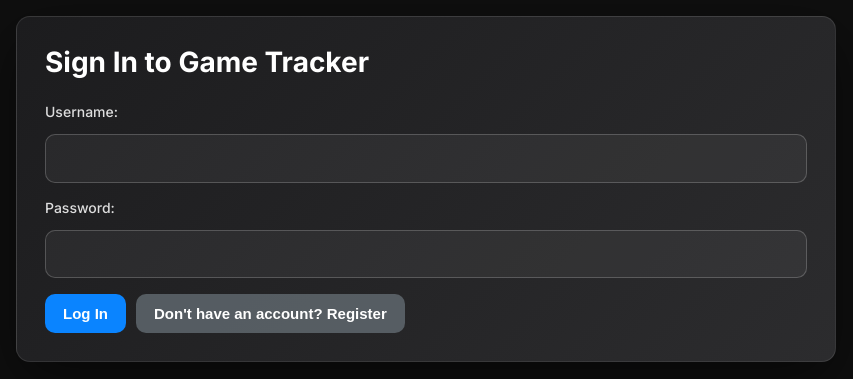
Test: App Component - Authentication › toggles between login and register forms
Click the button "Don't have an account? Register" at (270, 314), box [136,294,405,333]
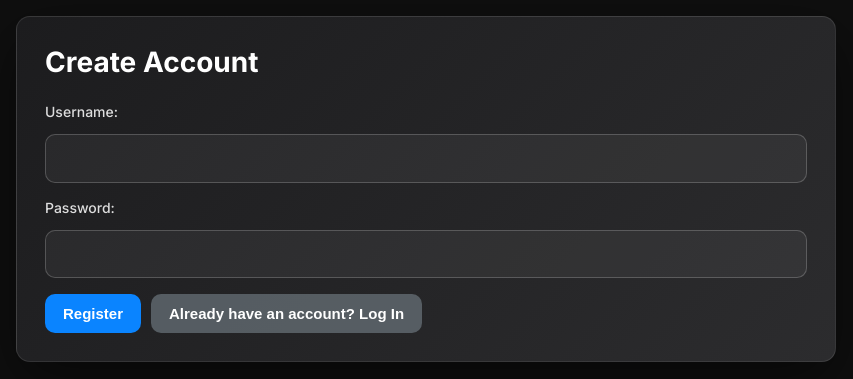
Check: the heading "Create Account" is shown, box [45,45,258,79]
Click the button "Don't have an account" at (287, 314), box [151,294,422,333]
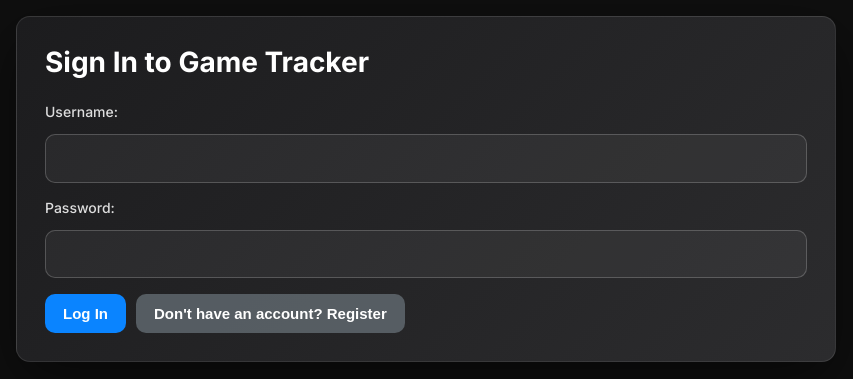
Check: the heading "Sign In to Game Tracker" is shown, box [45,45,369,79]
